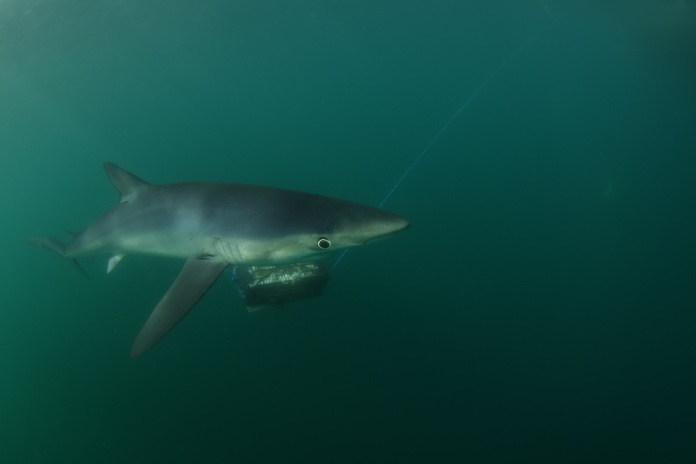Azul: (22, 146, 417, 363)
